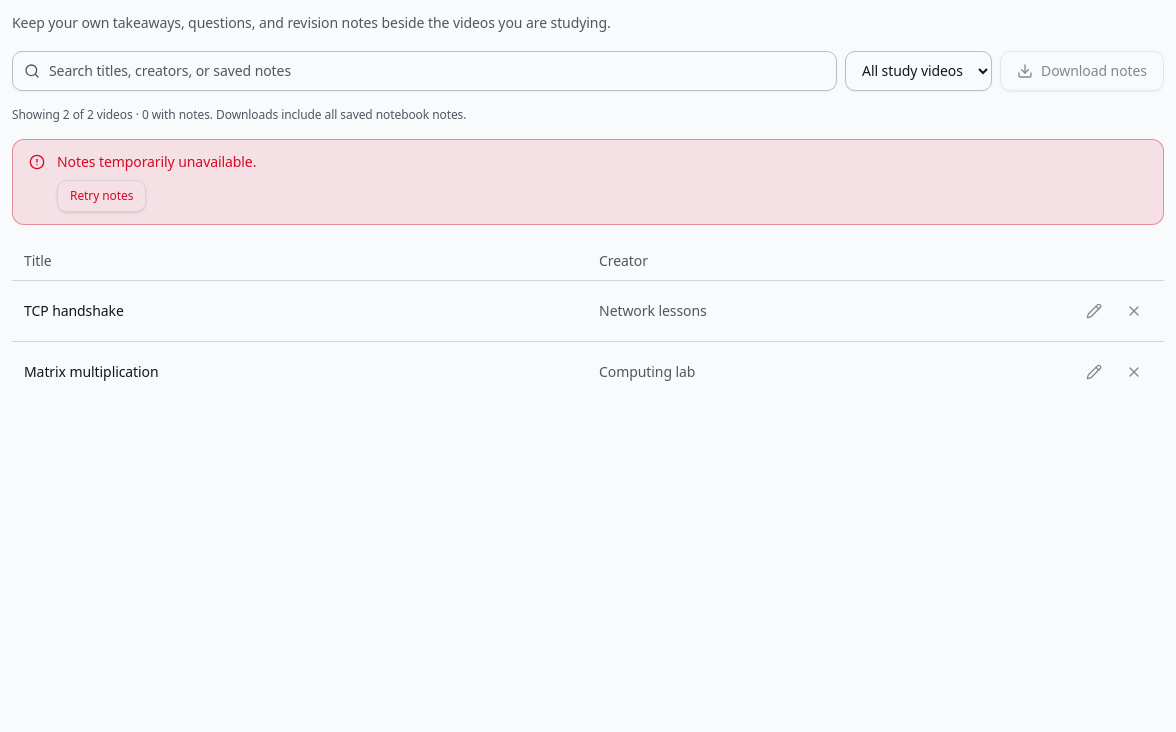
StudyNotebook › shows a note-loading error and can retry without losing the video list
Expected: the message shows "Notes temporarily unavailable.", x1=57 y1=152 x2=256 y2=171
Expected: the button "TCP handshake" is shown, x1=24 y1=301 x2=124 y2=321
Step 1. Click the button "Retry notes" → [102, 196], box x1=57 y1=180 x2=146 y2=212
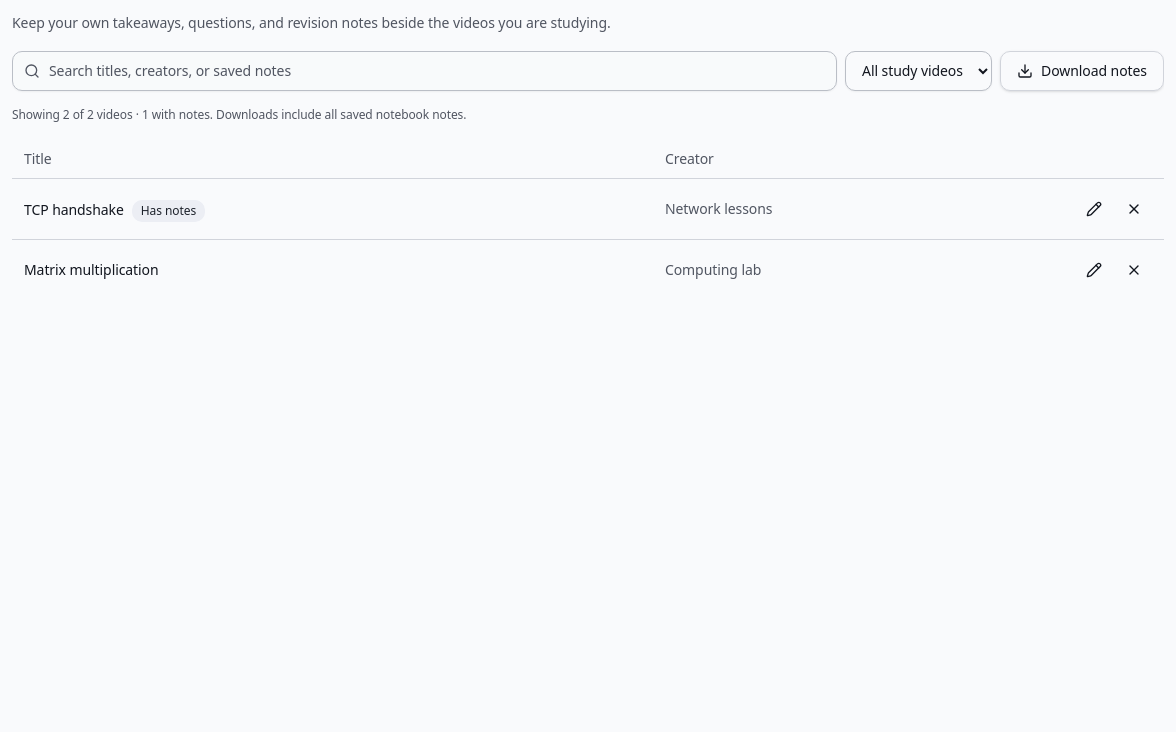
Step 2. Click the button named "Edit note for TCP handshake" → [1094, 209], box x1=1076 y1=191 x2=1112 y2=227
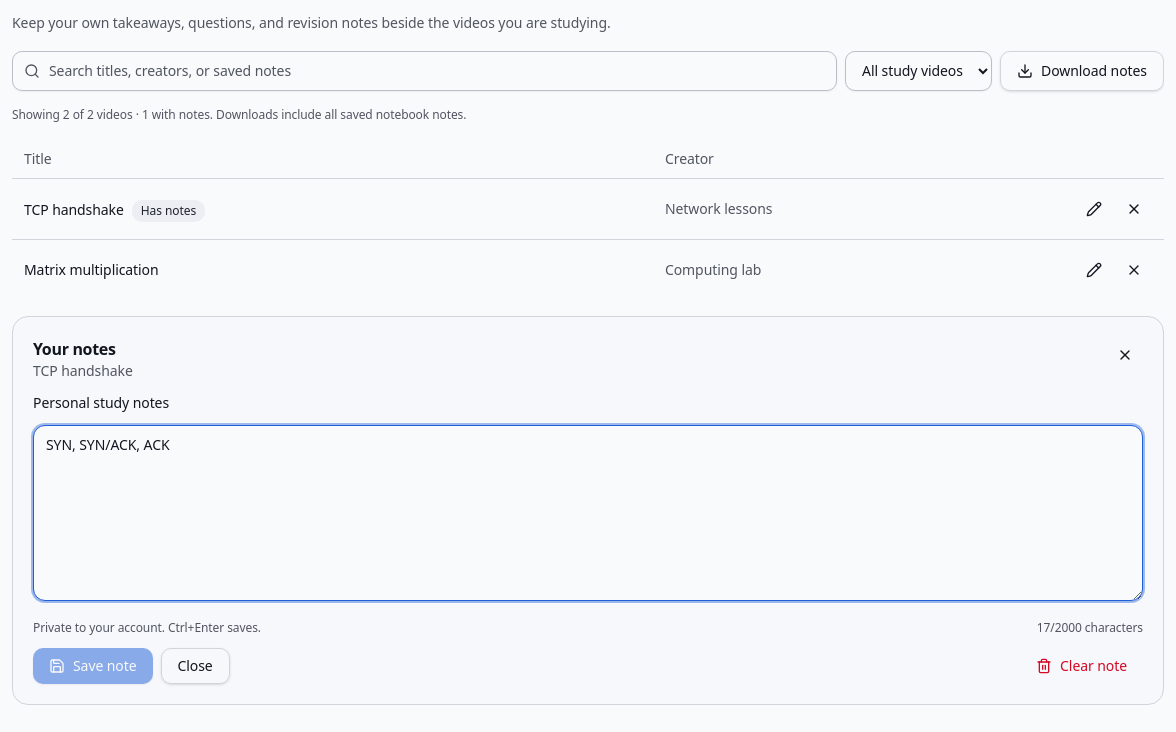
Now the text box labelled "Personal study notes" holds "SYN, SYN/ACK, ACK", box x1=33 y1=425 x2=1143 y2=601
